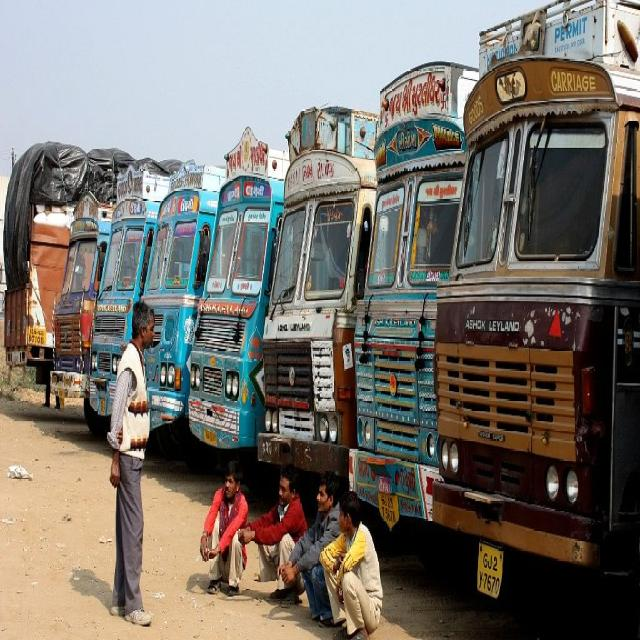truck: (431, 0, 640, 596), (349, 62, 479, 520), (258, 109, 376, 478), (189, 129, 289, 452), (142, 162, 226, 464), (90, 167, 169, 421), (50, 191, 112, 434)
